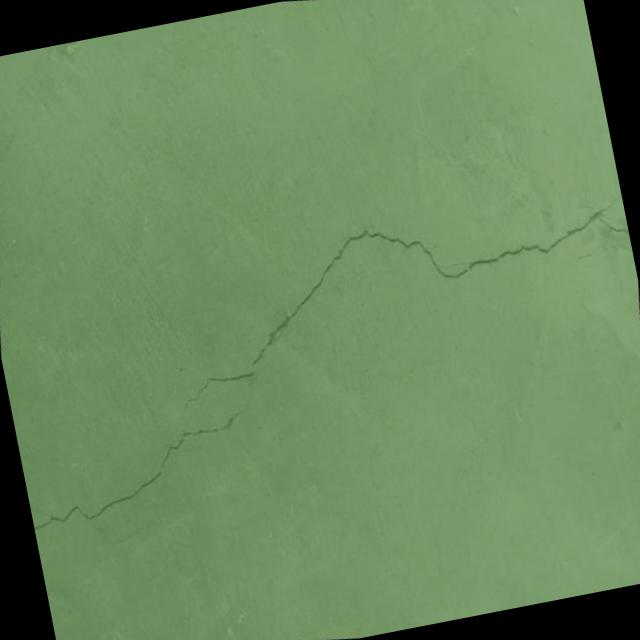crack: (145, 137, 640, 480), (12, 370, 278, 580)
